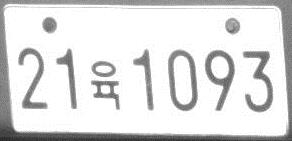0: (166, 47, 200, 112)
1: (128, 46, 161, 113), (50, 47, 82, 111)
2: (15, 46, 49, 110)
3: (240, 48, 274, 113)
9: (204, 48, 236, 112)
육: (89, 60, 122, 111)
